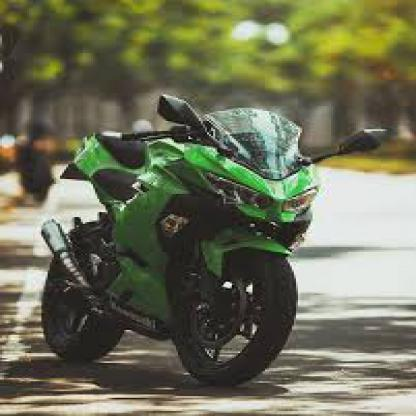Motorcycle: (29, 90, 385, 387)
